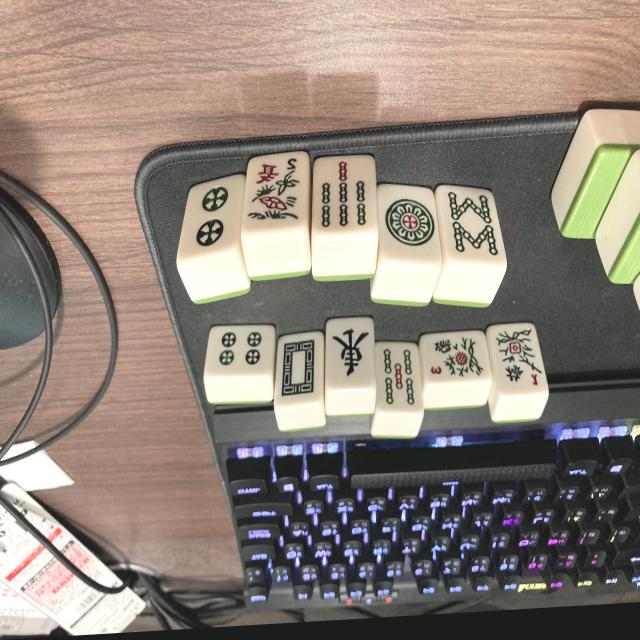bai: (273, 332, 322, 406)
east: (324, 318, 374, 393)
f1: (494, 323, 540, 394)
f3: (416, 329, 488, 384)
ff2: (241, 153, 309, 233)
s5: (375, 341, 421, 413)
s7: (311, 154, 374, 237)
s8: (437, 184, 502, 264)
t1: (378, 181, 442, 265)
t2: (174, 175, 244, 260)
t4: (206, 322, 277, 377)
